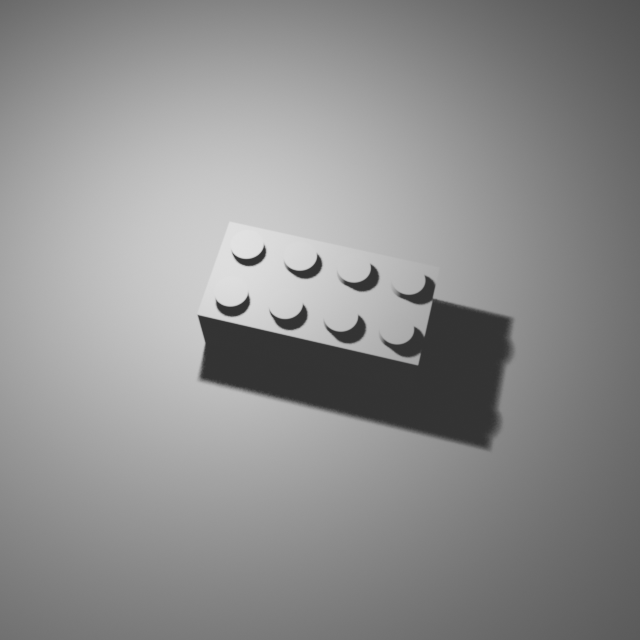lego_2x4: (196, 216, 441, 391)
